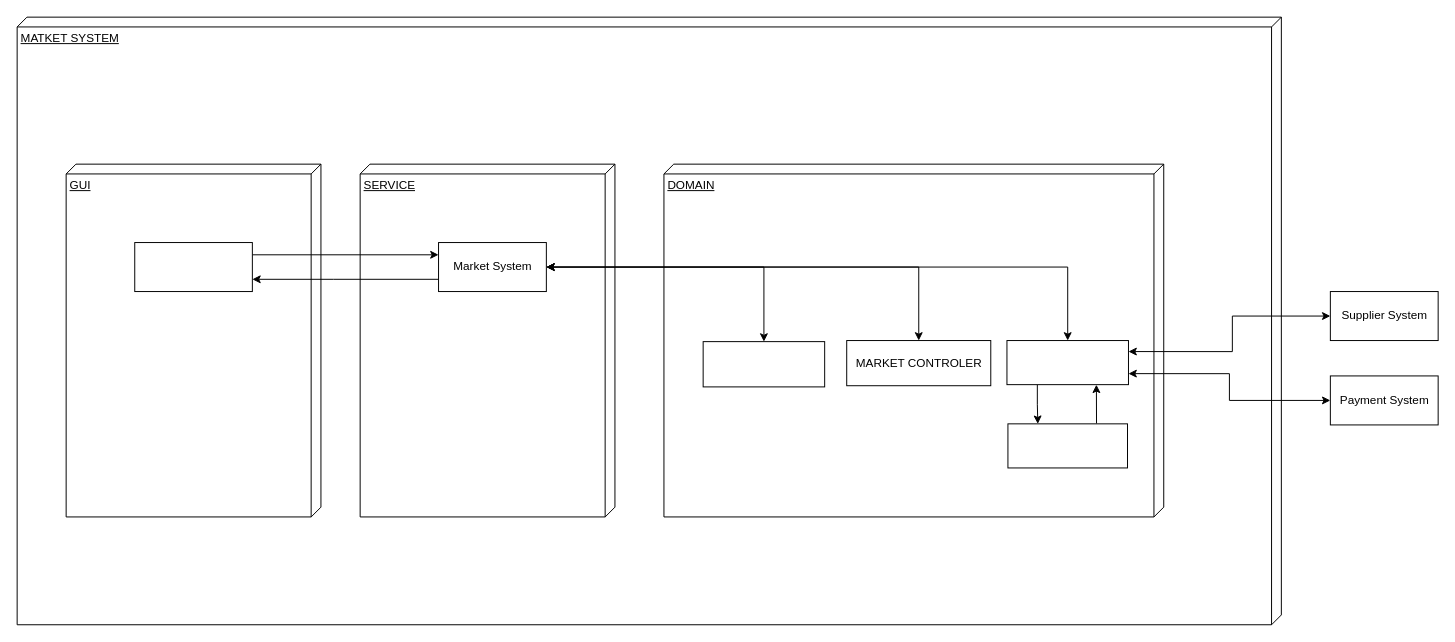
The diagram is 1455 pixels wide and 642 high, and some of its shapes have lost their labels. The shapes that lost their labels are listed below. From the top down, each one's centre as x and y in pixels, then its label:
point 193,267: Market Managment
point 763,364: USER CONTROLLER
point 1067,362: COMUNICATION
point 1067,445: UserAuth
